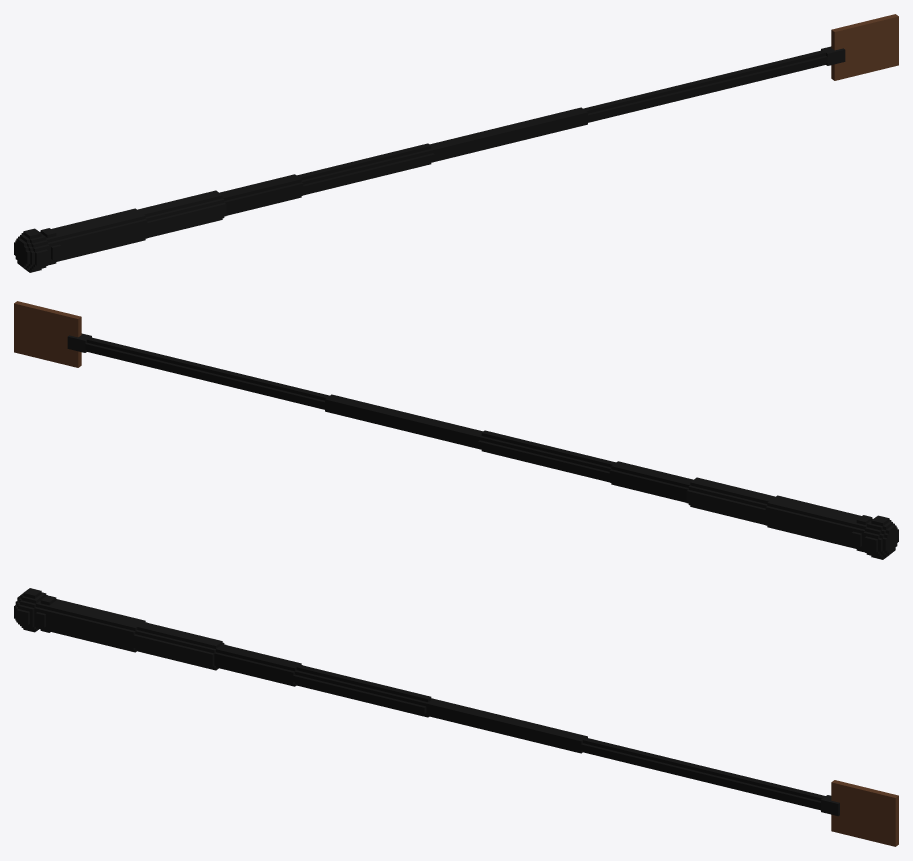
The model's file is riding_crop.glb.
3 renders of one model, top to bottom at view 1: azimuth 30°, elevation 25°; view 2: azimuth 150°, elevation 25°; view 3: azimuth 330°, elevation 25°, orthographic.
Parts seen in each view (by area): view 1: riding_crop:compound; view 2: riding_crop:compound; view 3: riding_crop:compound.
Part boxes in pixels (x1=…): riding_crop:compound: x1=14, y1=14, x2=898, y2=272; riding_crop:compound: x1=14, y1=301, x2=898, y2=559; riding_crop:compound: x1=14, y1=588, x2=898, y2=846.
Size of the model in its own units: 0.6 by 0.032 by 0.024.
